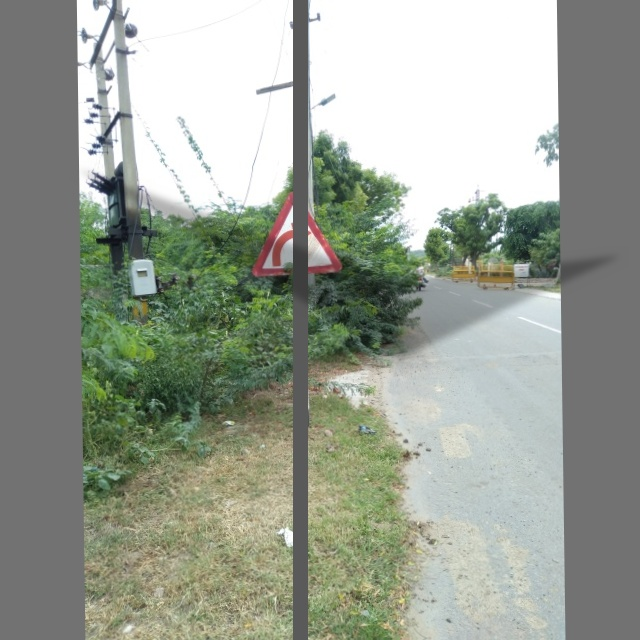Right_Hand_Curve: (251, 188, 345, 279)
